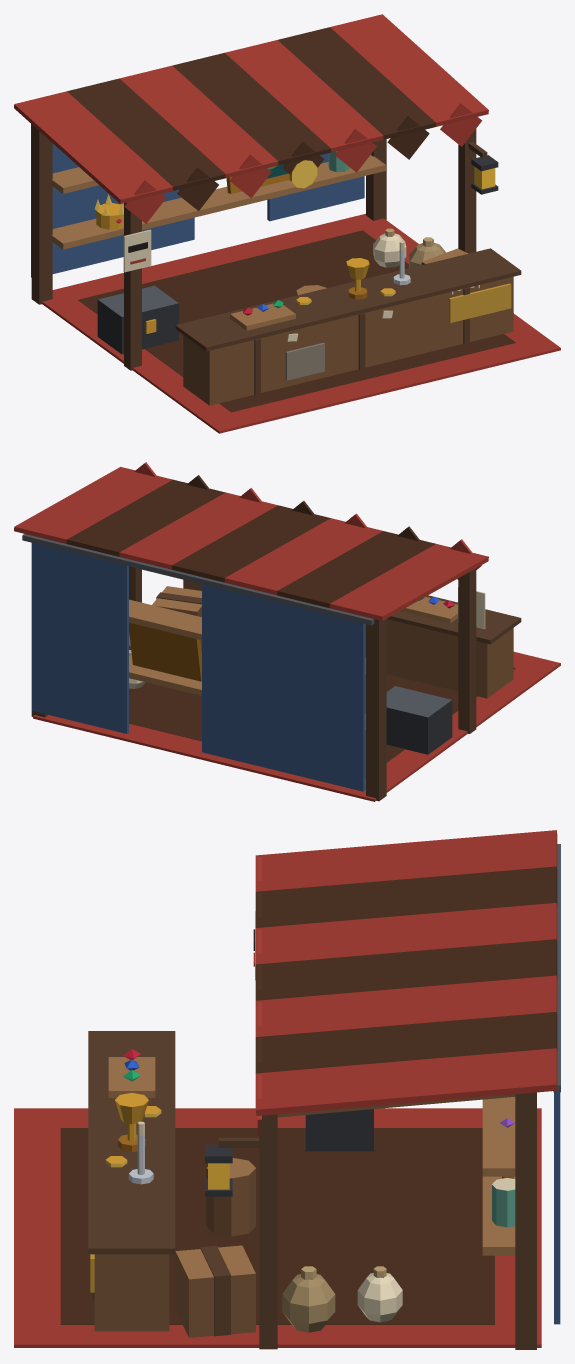
File: bld_fence_stall_2x2.glb
3 renders of one model, top to bottom at view 1: azimuth 30°, elevation 25°; view 2: azimuth 150°, elevation 25°; view 3: azimuth 270°, elevation 25°, orthographic. The views are drawn at different scales.
Visible parts, largest first — view 1: bld_fence_stall_2x2; view 2: bld_fence_stall_2x2; view 3: bld_fence_stall_2x2.
Part boxes in pixels (x1=…): bld_fence_stall_2x2: x1=14, y1=14, x2=560, y2=433; bld_fence_stall_2x2: x1=14, y1=462, x2=560, y2=801; bld_fence_stall_2x2: x1=14, y1=830, x2=560, y2=1349.
Bounding box in the file's own units: 1.94 × 0.969 × 1.76.
Materials: 1 (1 with a texture image).
